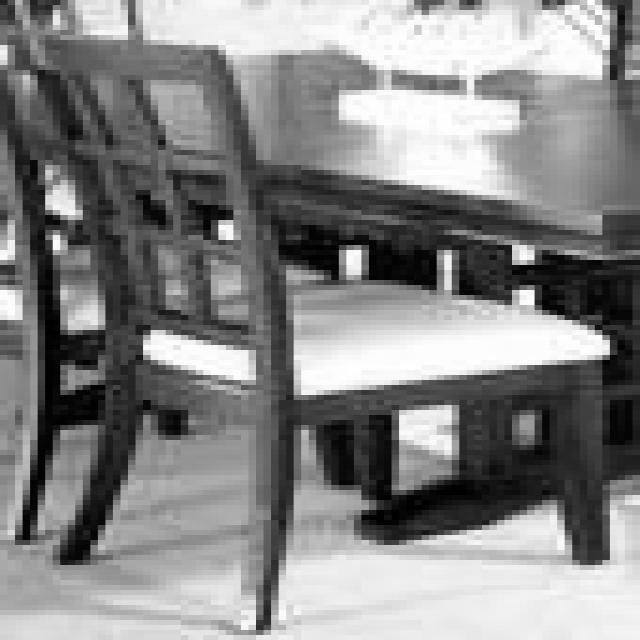chair: (13, 31, 615, 631)
